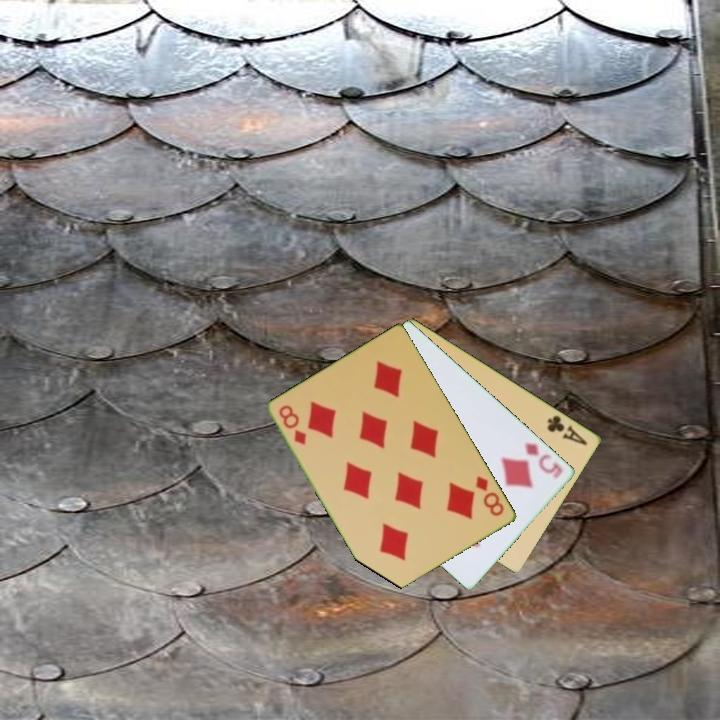5d: (522, 439, 566, 482)
8d: (472, 472, 507, 519), (275, 401, 310, 448)
Ac: (544, 411, 591, 448)
